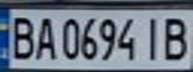0: (57, 14, 81, 62)
4: (115, 14, 142, 62)
6: (78, 15, 100, 62)
9: (96, 15, 121, 62)
A: (30, 14, 57, 61)
B: (3, 12, 39, 61), (160, 12, 193, 62)
I: (139, 14, 169, 62)
